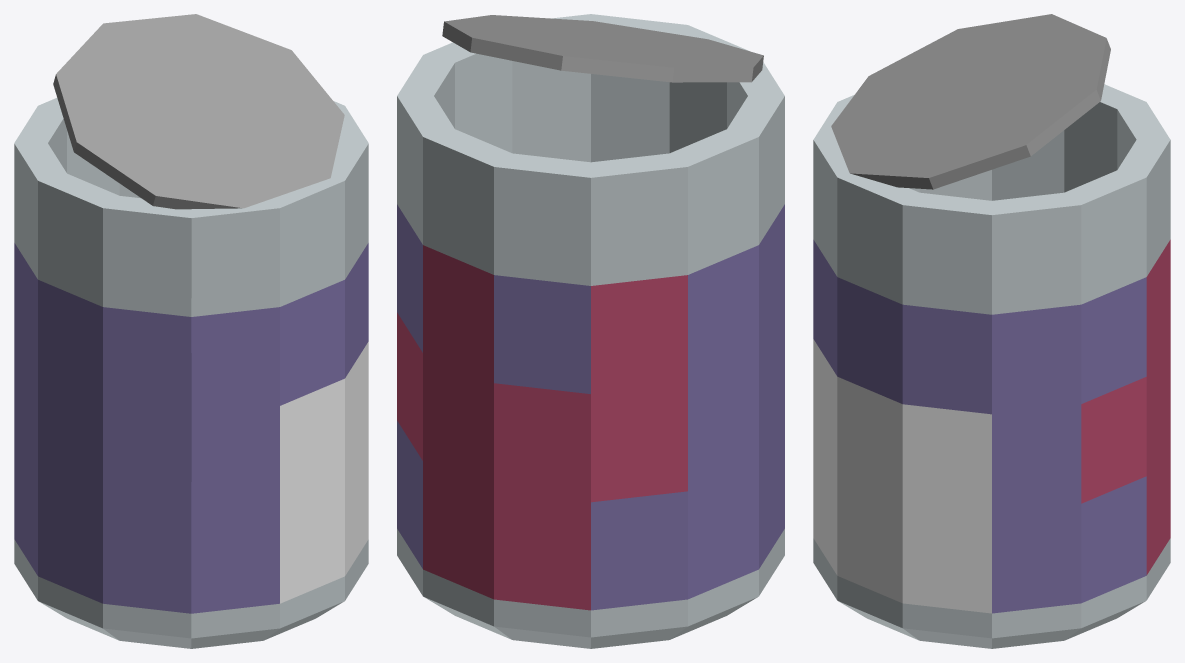
Rendered from trash2.fbx.
3 views of the same model, side by side, from view 1: azimuth 30°, elevation 25°; view 2: azimuth 150°, elevation 25°; view 3: azimuth 270°, elevation 25° (orthographic). The views are drawn at different scales.
Parts seen in each view (by area): view 1: group203695626; view 2: group203695626; view 3: group203695626.
Part boxes in pixels (<box>): group203695626: <box>14,14,368,648</box>; group203695626: <box>397,14,784,648</box>; group203695626: <box>813,14,1170,648</box>.
Bounding box in the file's own units: 24.2 × 39.97 × 24.2.
